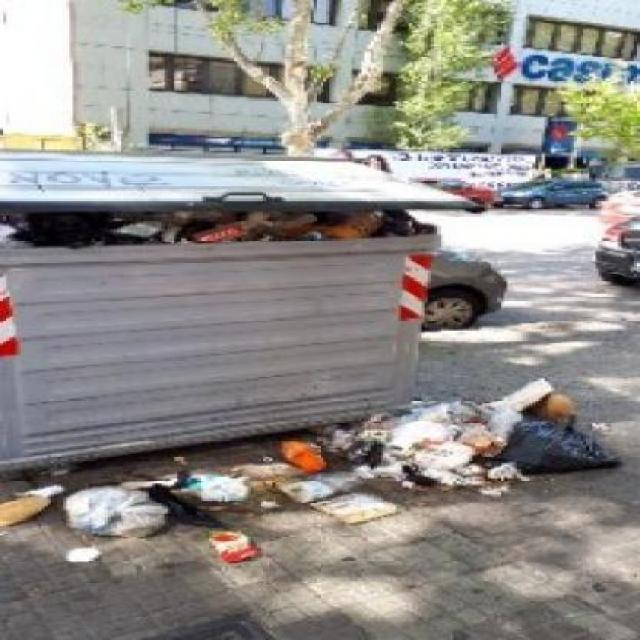garbage: (0, 470, 278, 572), (263, 420, 599, 502), (6, 212, 422, 248), (412, 388, 593, 422)
